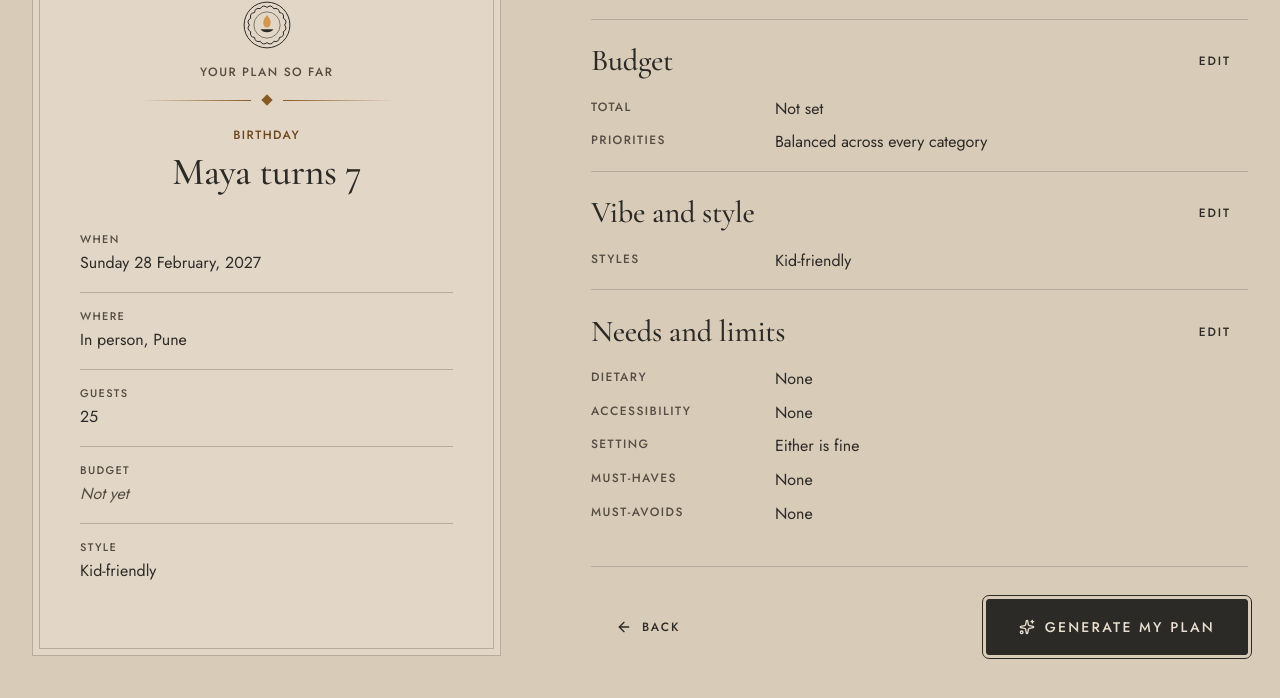
Test case: Wizard generation › sends people back to the first incomplete step instead of generating
(page scrolled)
Click the button "Generate my plan" at (1117, 627), box 986,599 -> 1248,655
(page scrolled)
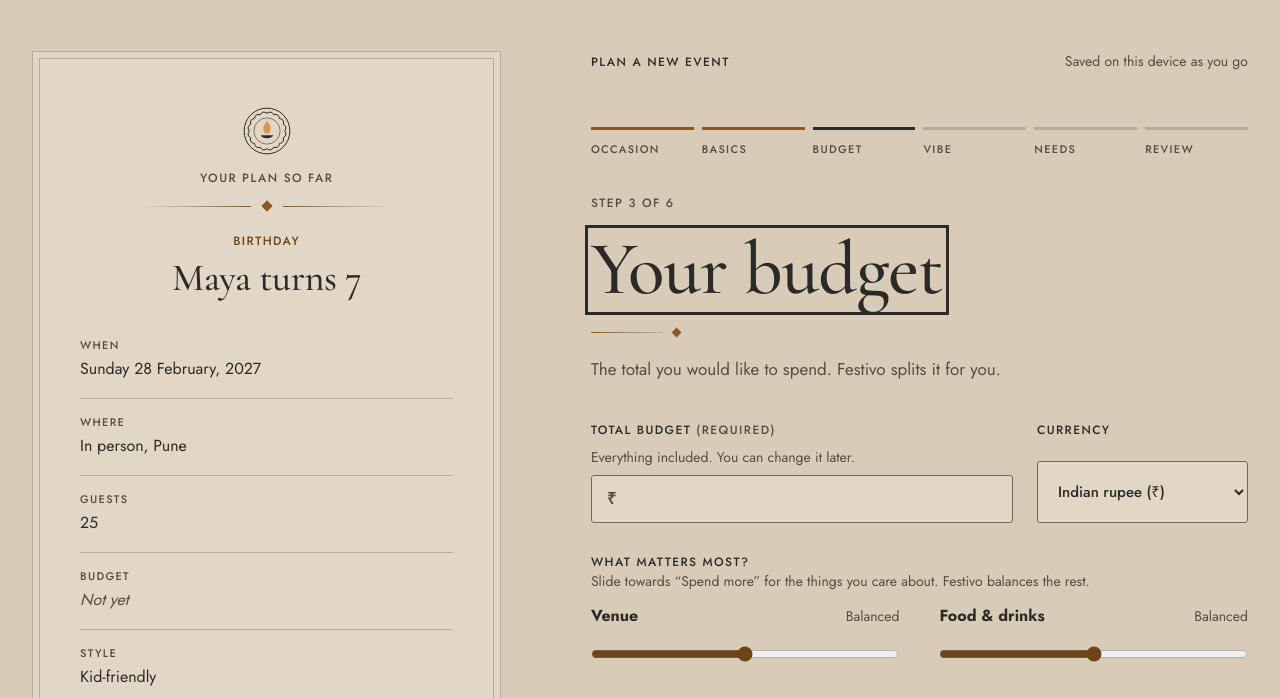
expect the heading "Your budget" is shown: met, box 591,232 -> 943,308
